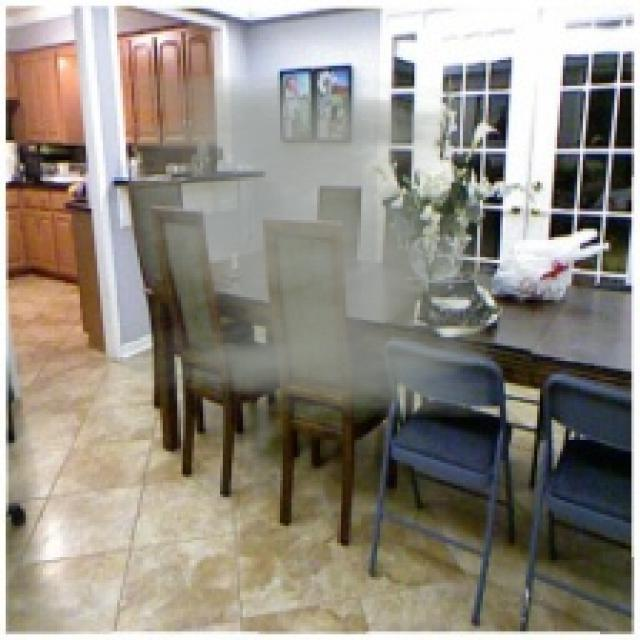Smoke: (128, 74, 494, 417)
